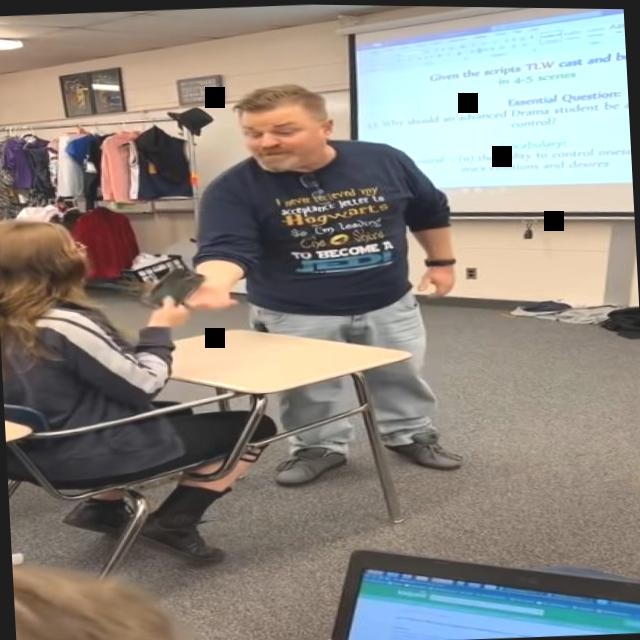NO-Mask: (233, 86, 336, 179)
